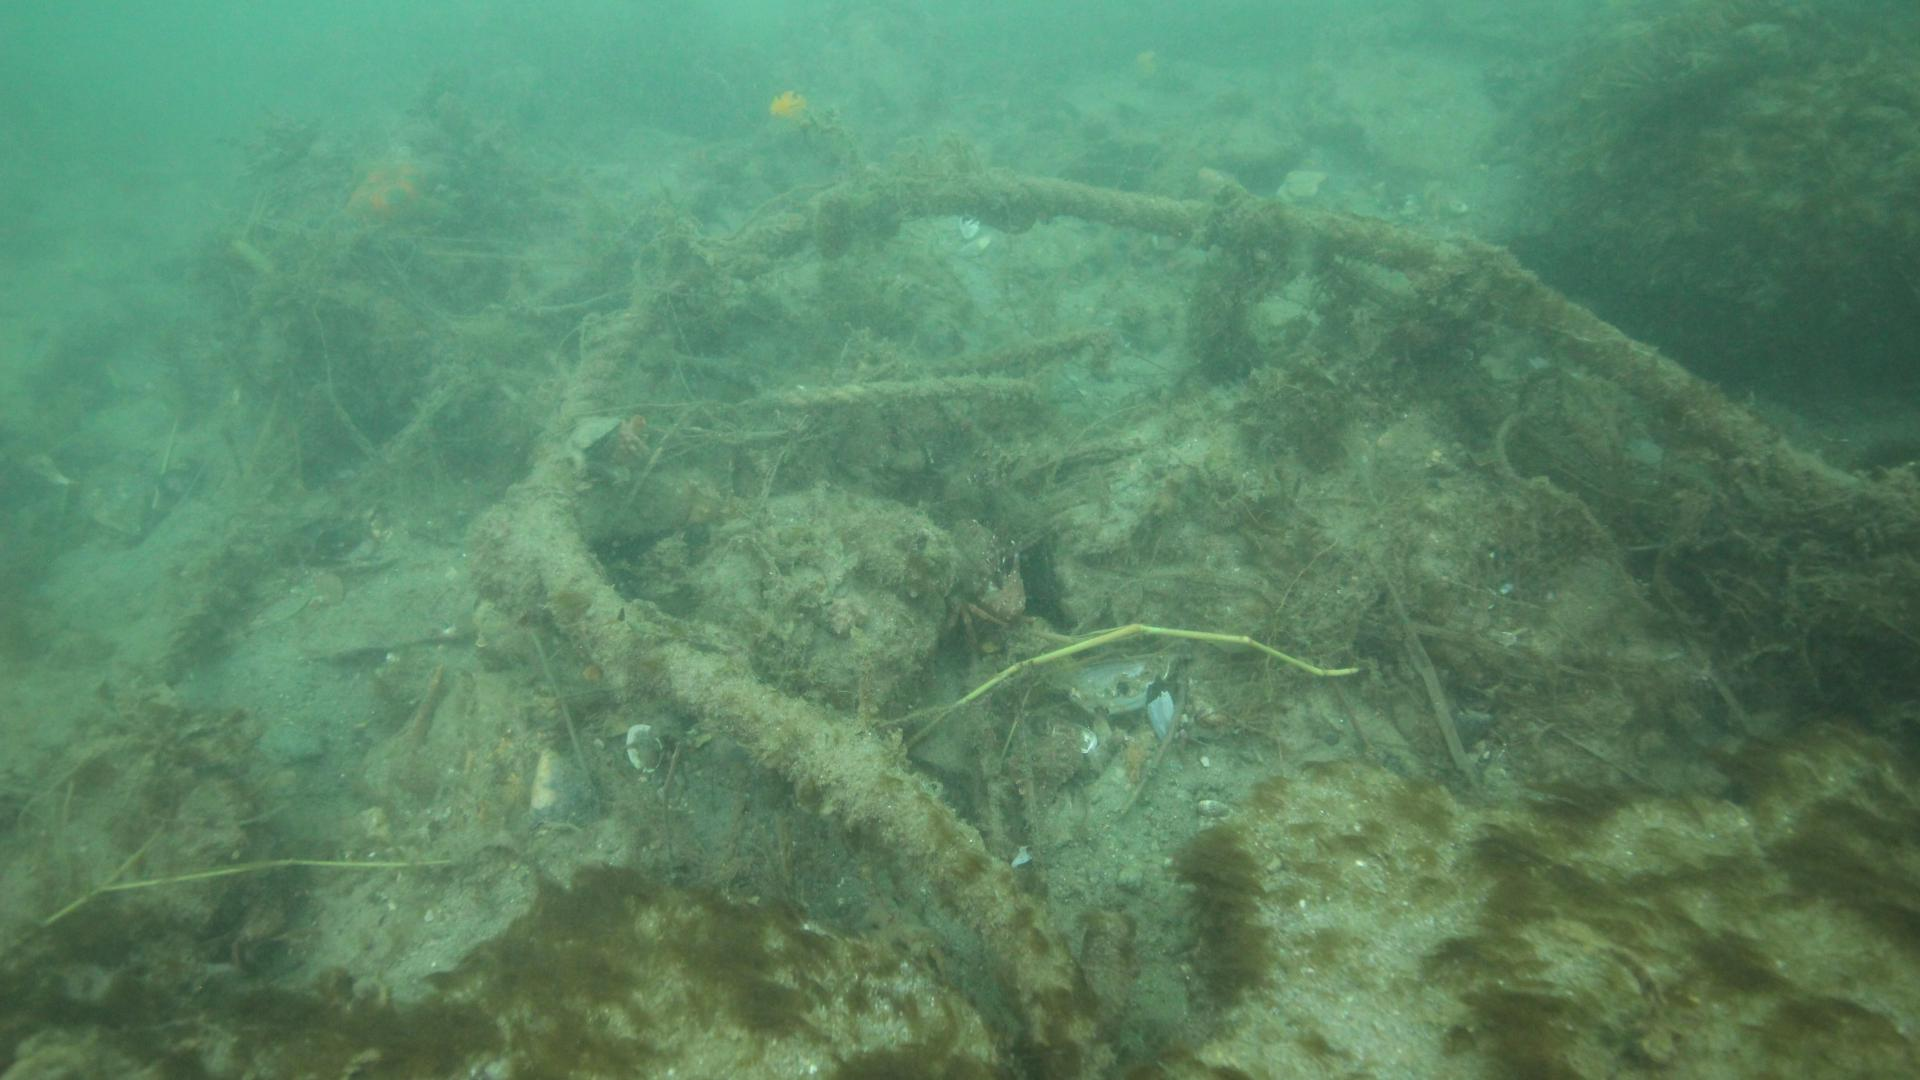bundle of ropes: (529, 167, 1920, 1080)
